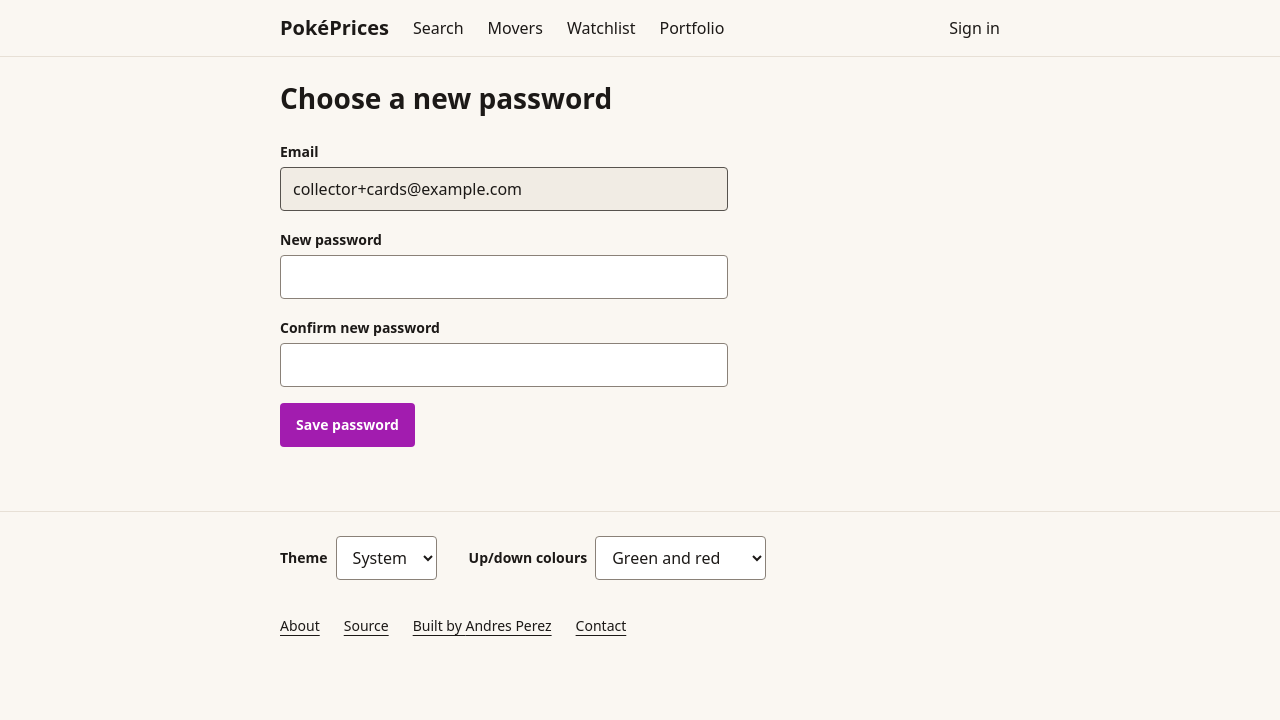
Test case: the reset-password page (T03 criterion 3, D10) › shows a bad token (an email error) under Email
In the password field labelled "New password": (504, 277) 280,255 -> 728,299, type "fake-password-0000-ok"
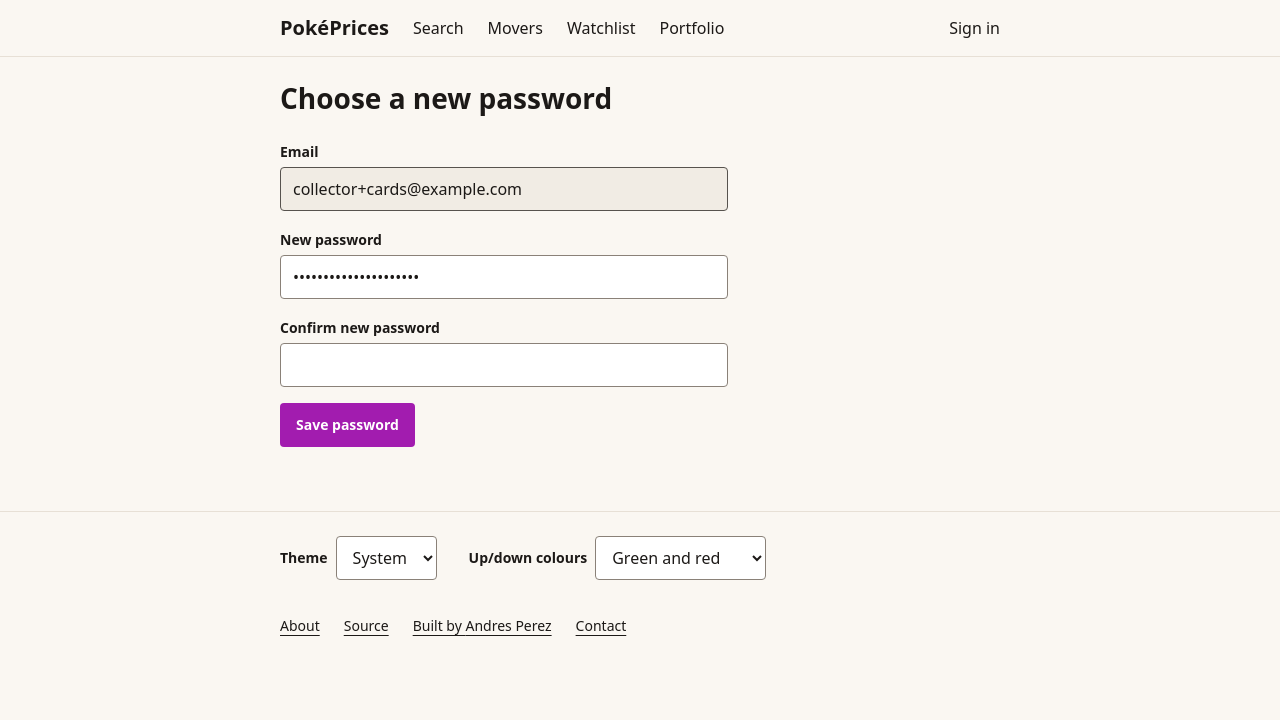
In the password field labelled "Confirm new password": (504, 365) 280,343 -> 728,387, type "fake-password-0000-ok"
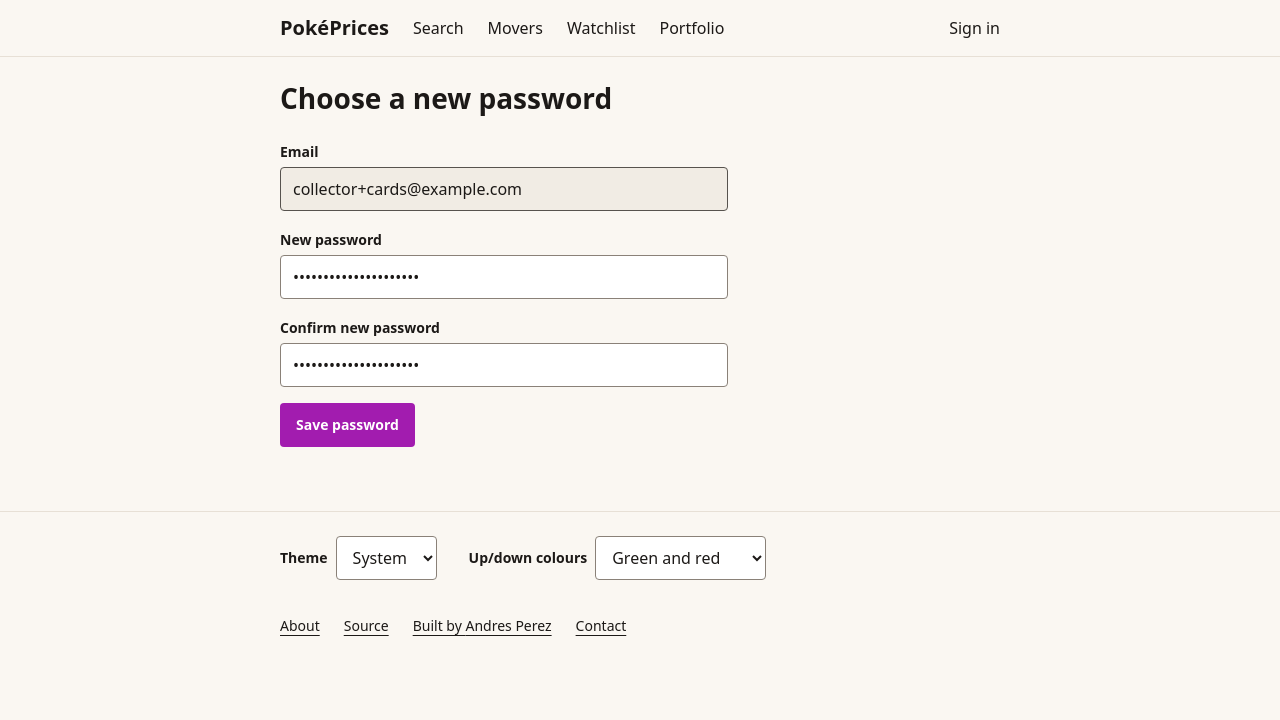
Click the button "Save password": (347, 425) 280,403 -> 415,447
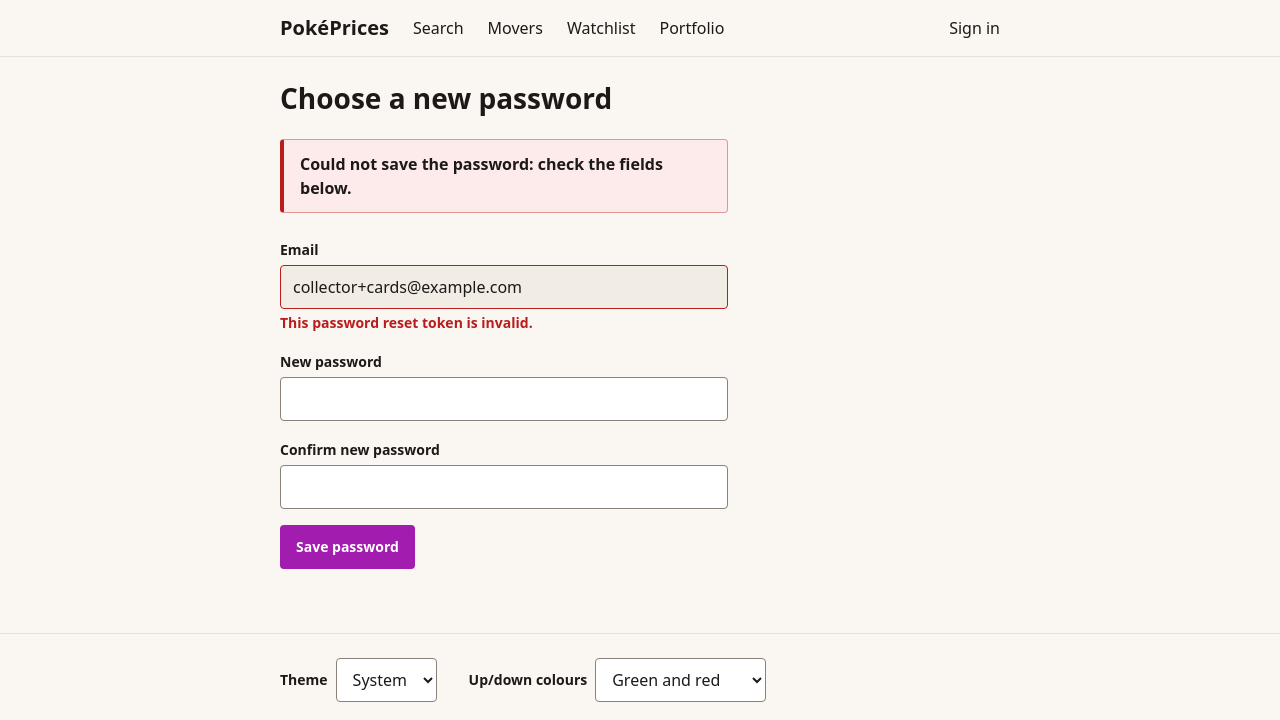
Now the message "Could not save the password: check the fields below." is shown, box 280,139 -> 728,213
